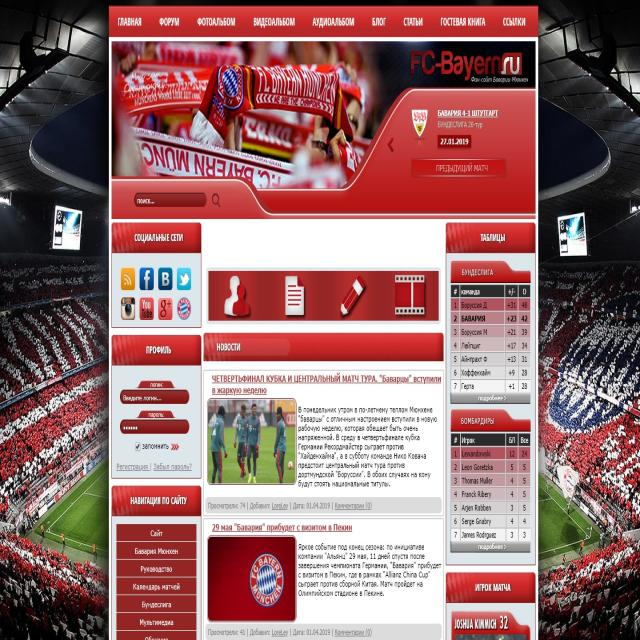button: (386, 270, 433, 320), (333, 272, 374, 322), (217, 271, 256, 320), (274, 271, 311, 322), (412, 158, 506, 177), (117, 594, 196, 614), (116, 576, 196, 595), (117, 541, 196, 560), (117, 524, 196, 542), (117, 560, 196, 577), (308, 11, 358, 37), (116, 614, 196, 630), (249, 9, 297, 34), (435, 14, 490, 34), (193, 10, 240, 33), (112, 9, 145, 36), (497, 10, 533, 32), (394, 13, 428, 33), (384, 129, 399, 167), (154, 12, 182, 32), (364, 10, 388, 32), (157, 265, 174, 293), (137, 266, 155, 292), (120, 264, 136, 291), (175, 296, 192, 321), (177, 266, 193, 292), (138, 296, 154, 322), (156, 296, 172, 322), (120, 296, 136, 321), (212, 190, 224, 209), (134, 440, 141, 452)
field: (135, 190, 207, 210), (120, 388, 188, 404)
heading: (406, 43, 532, 85), (453, 616, 513, 634), (471, 577, 521, 598), (132, 230, 186, 246), (458, 262, 498, 282), (477, 225, 511, 248), (457, 414, 499, 429), (143, 341, 177, 359), (212, 340, 245, 355)
image: (112, 41, 536, 193), (451, 433, 532, 553), (452, 284, 532, 405), (207, 398, 296, 485), (208, 536, 296, 622), (408, 106, 432, 147)
label: (142, 442, 172, 452), (136, 195, 156, 208), (143, 382, 169, 389), (146, 410, 166, 418)
link: (151, 462, 194, 473), (116, 462, 150, 474)
text: (297, 402, 439, 490), (298, 539, 442, 601), (207, 370, 443, 396), (206, 623, 381, 640), (434, 105, 500, 150), (208, 500, 376, 514), (210, 522, 354, 535)
